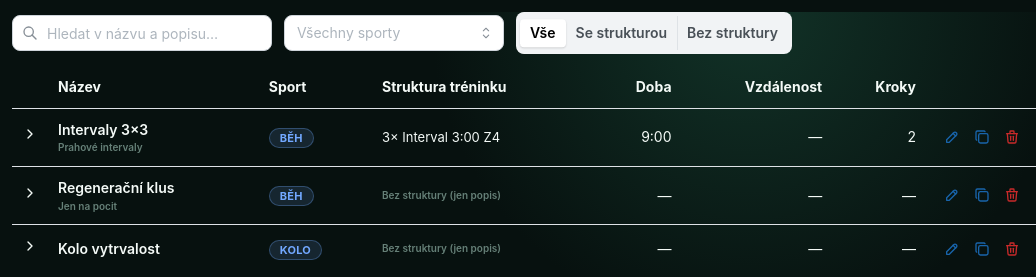
TemplatesTable › filters by text (ignoring diacritics) and by structure
In the field with placeholder "Hledat v názvu a popisu…": coordinates (142, 33) [12,15,272,51], type "regeneracni"
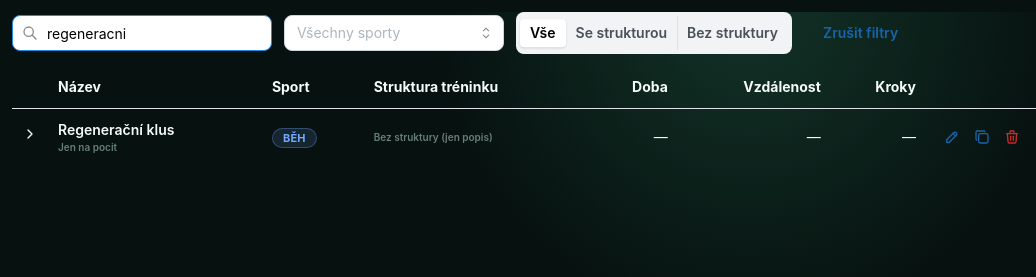
expect the text "Regenerační klus" is shown: met, box [58,121,174,138]
expect the text "Intervaly 3×3" is gone: met
Clear the field with placeholder "Hledat v názvu a popisu…": coordinates (142, 33) [12,15,272,51]
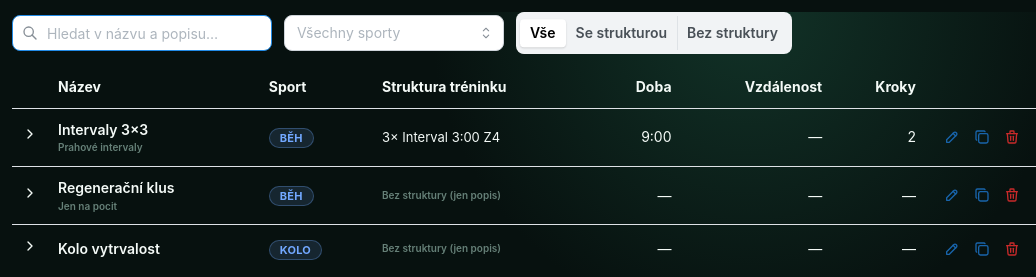
Click the text "Se strukturou": coordinates (621, 33) [576,24,667,41]
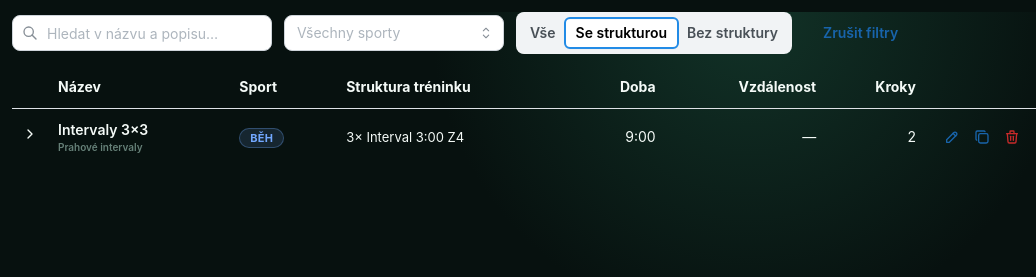
expect the text "Intervaly 3×3" is shown: met, box [58,121,148,138]
expect the text "Kolo vytrvalost" is gone: met
